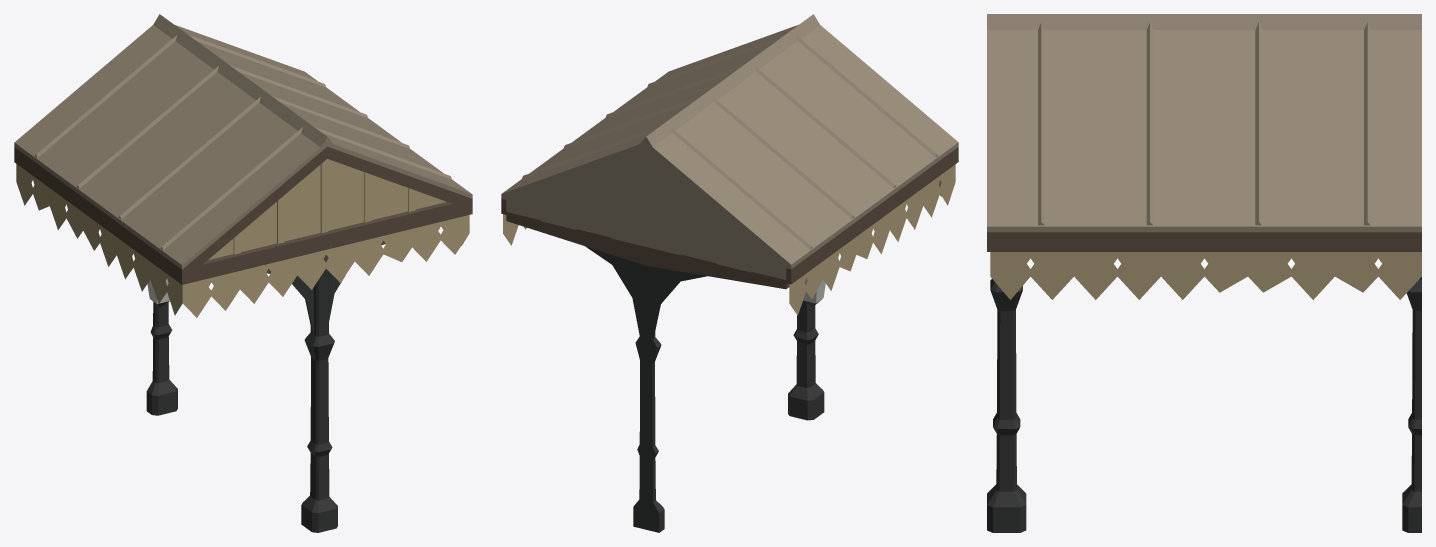
File: platform-canopy-run-bc2275.glb
3 views of the same model, side by side, from view 1: azimuth 30°, elevation 25°; view 2: azimuth 150°, elevation 25°; view 3: azimuth 270°, elevation 25° (orthographic). The views are drawn at different scales.
Parts seen in each view (by area): view 1: canopy; view 2: canopy; view 3: canopy.
Boxes of the visible parts, left/top/right/bottom form: canopy: left=14, top=14, right=472, bottom=532; canopy: left=501, top=14, right=958, bottom=532; canopy: left=987, top=14, right=1421, bottom=532.
Size of the model in its own units: 4 by 5.18 by 4.
